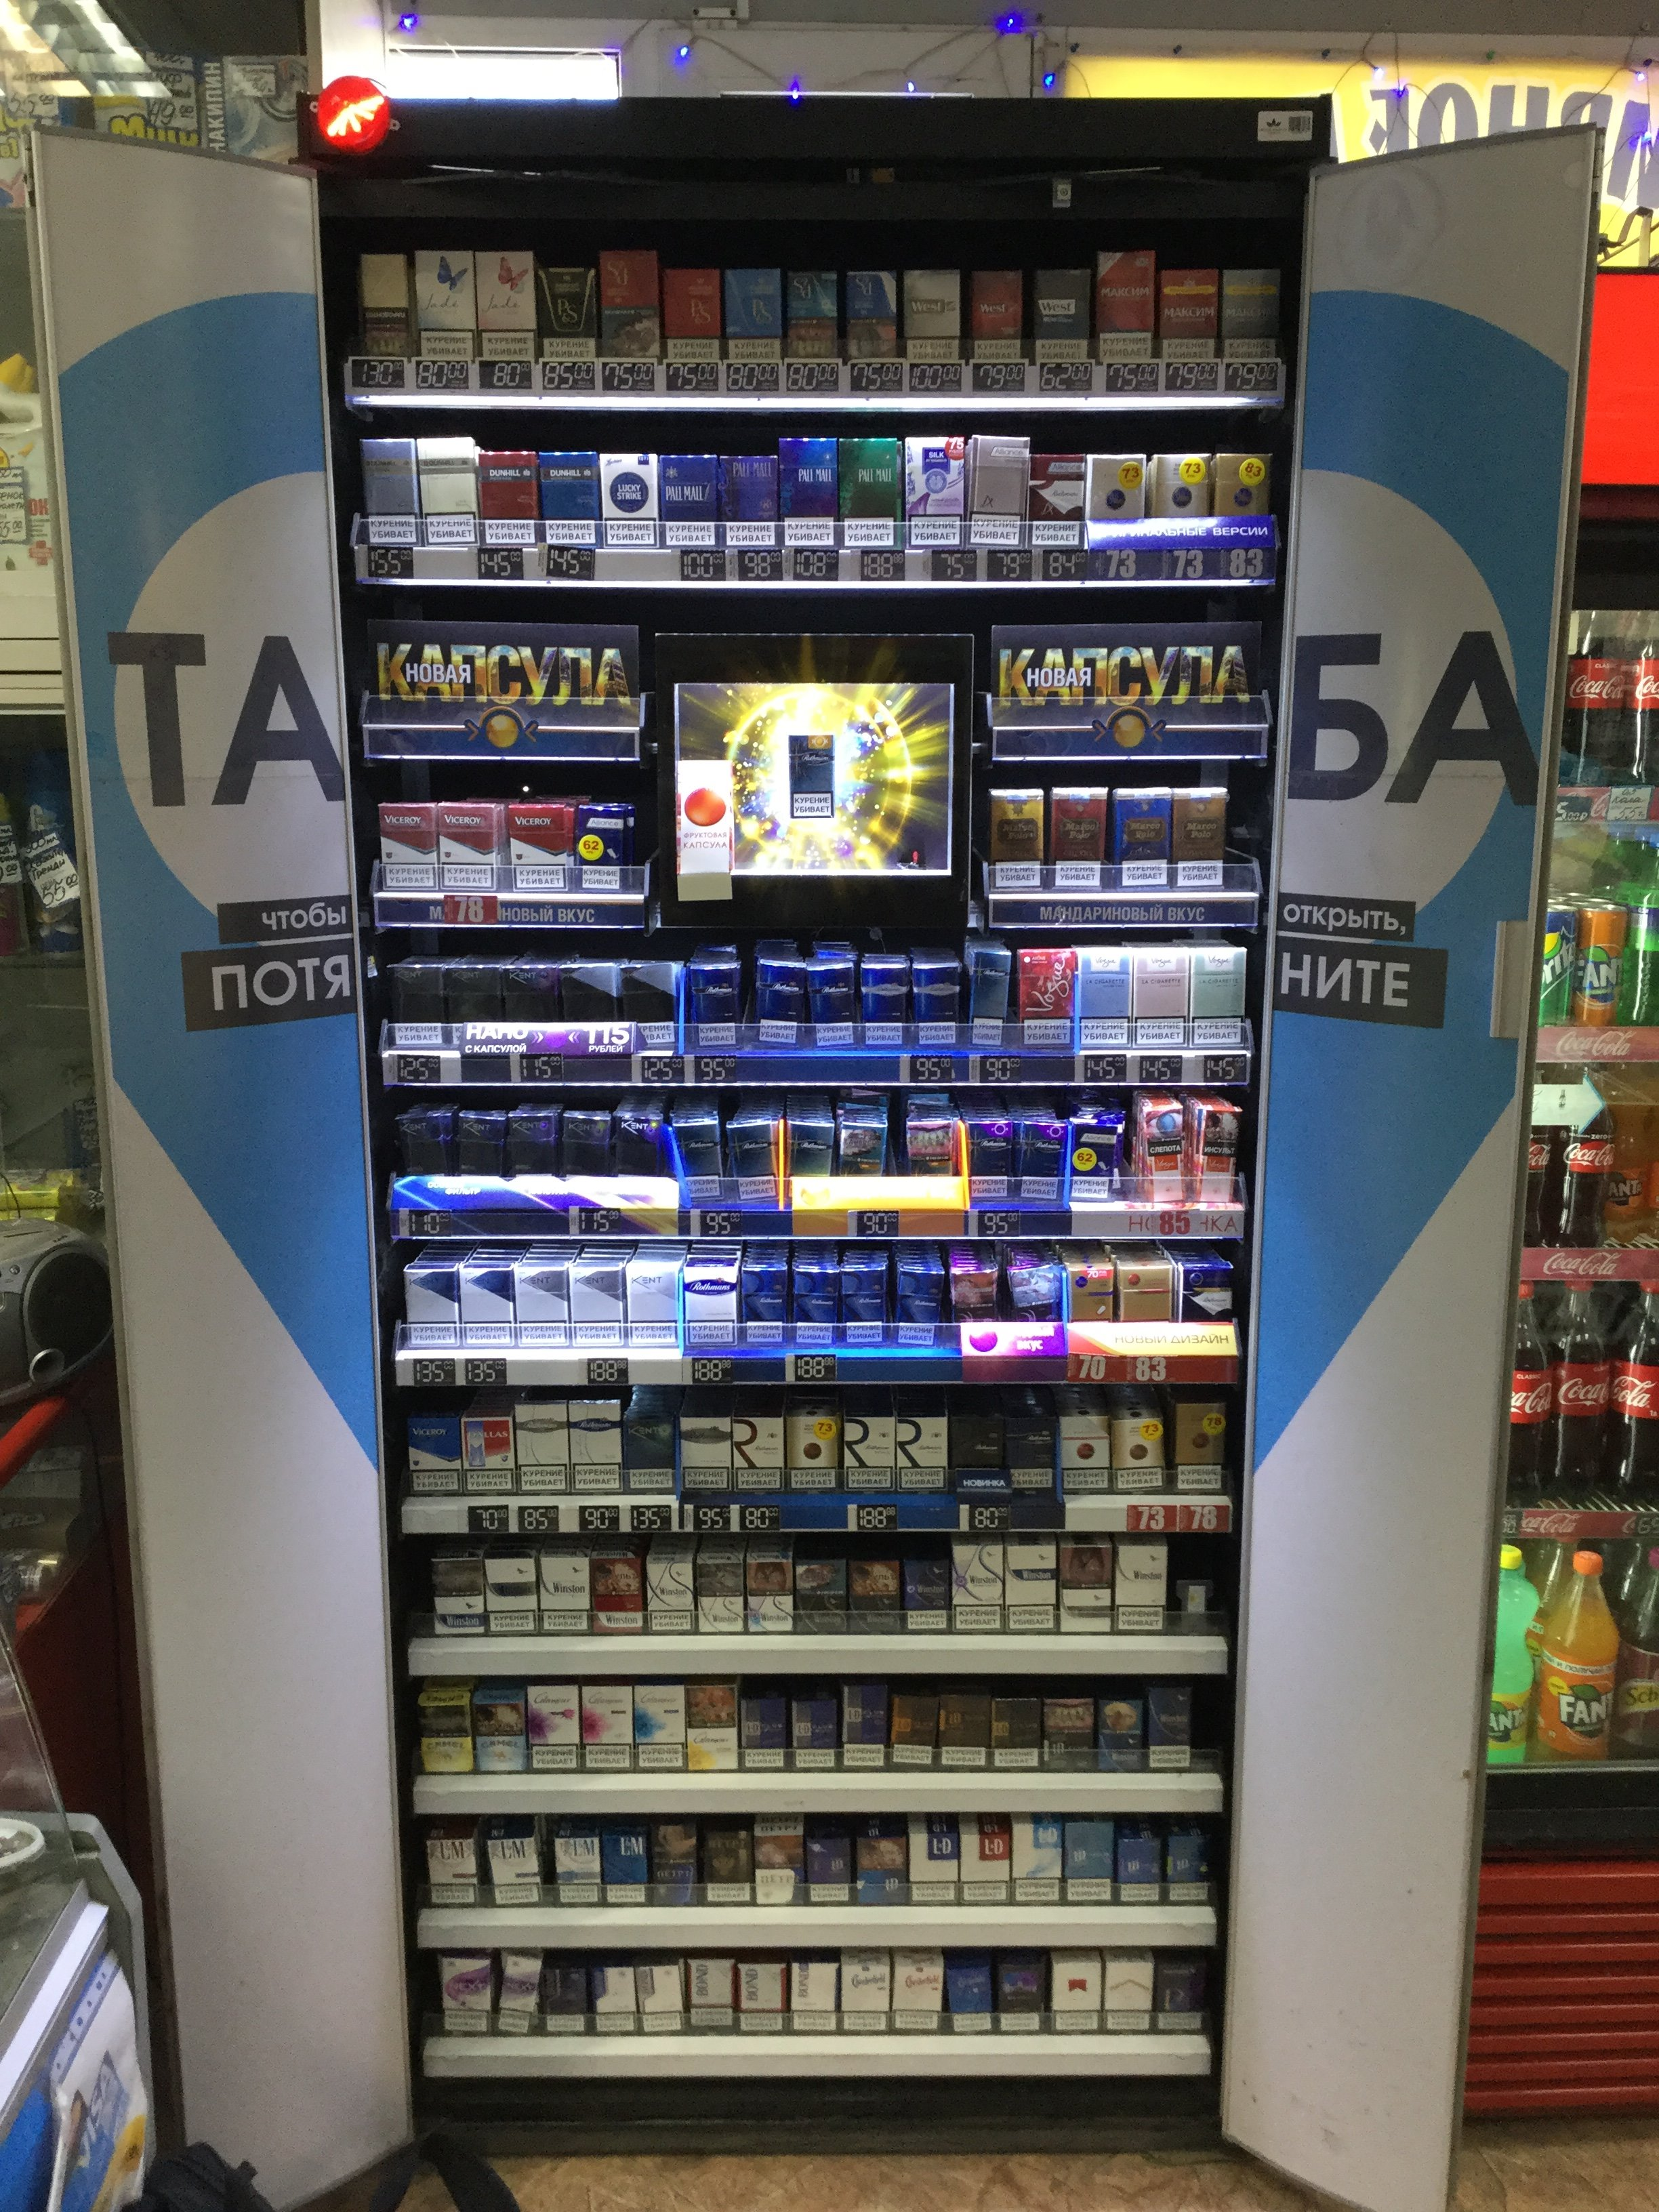pack: (410, 242, 479, 362), (471, 247, 535, 374), (836, 435, 906, 552), (1094, 246, 1159, 369), (591, 249, 659, 366), (535, 263, 601, 376), (967, 435, 1030, 554), (906, 434, 969, 550), (533, 446, 599, 556), (472, 442, 537, 549), (359, 437, 420, 547), (777, 437, 838, 547), (960, 266, 1028, 364), (1220, 265, 1279, 376), (1190, 944, 1251, 1052), (1030, 265, 1096, 364), (593, 451, 659, 550), (721, 265, 786, 366), (903, 265, 967, 366), (415, 434, 472, 547), (436, 803, 507, 894), (619, 958, 680, 1062), (1047, 786, 1110, 887), (1014, 948, 1077, 1049), (1168, 787, 1229, 890), (1211, 453, 1276, 549), (662, 268, 723, 369), (354, 254, 411, 361), (1131, 948, 1190, 1050), (1185, 1096, 1239, 1207), (1073, 946, 1129, 1052), (659, 453, 716, 556), (504, 956, 561, 1059), (1147, 455, 1206, 554), (714, 455, 775, 550), (840, 266, 899, 364), (1023, 453, 1082, 550), (467, 1686, 526, 1784), (383, 961, 450, 1049), (1134, 1099, 1188, 1205), (1108, 784, 1164, 887), (620, 1113, 676, 1216), (1107, 1545, 1171, 1634), (784, 265, 842, 364), (502, 803, 565, 894), (1089, 449, 1145, 550), (444, 958, 505, 1050), (378, 798, 436, 895), (561, 961, 620, 1055), (1161, 270, 1220, 362), (1053, 1543, 1112, 1635), (683, 963, 744, 1052), (697, 1817, 753, 1912), (575, 803, 631, 897), (570, 1399, 626, 1493), (687, 1684, 742, 1778), (1046, 1947, 1105, 2034), (457, 1259, 512, 1352), (570, 1258, 626, 1350), (525, 1688, 580, 1780), (751, 1820, 807, 1912), (512, 1404, 570, 1493), (455, 1113, 507, 1211), (566, 1109, 619, 1207), (988, 786, 1042, 880), (753, 961, 807, 1055), (721, 1122, 777, 1212), (514, 1111, 565, 1211), (1173, 1395, 1223, 1494), (861, 956, 910, 1059), (1115, 1266, 1171, 1355), (460, 1414, 519, 1498), (1108, 1407, 1164, 1496), (397, 1109, 448, 1207), (627, 1261, 680, 1355), (416, 1689, 474, 1775), (945, 1541, 1000, 1629), (643, 1818, 699, 1905), (1143, 1684, 1194, 1780), (911, 968, 964, 1061), (1009, 1820, 1061, 1912), (887, 1264, 945, 1348), (403, 1261, 457, 1350), (833, 1264, 887, 1353), (948, 1268, 1002, 1357), (631, 1689, 685, 1778), (946, 1413, 1007, 1491), (514, 1263, 570, 1348), (904, 1116, 955, 1211), (1063, 1818, 1114, 1912), (634, 1552, 694, 1632), (1180, 1261, 1232, 1352), (483, 1831, 540, 1912), (1100, 1956, 1157, 2038), (683, 1263, 737, 1350), (1000, 1263, 1056, 1346), (582, 1554, 638, 1637), (836, 1947, 889, 2036), (680, 1409, 734, 1494), (892, 1414, 946, 1500), (535, 1552, 589, 1637), (1000, 1541, 1054, 1627), (1040, 1695, 1094, 1780), (836, 1414, 894, 1494), (676, 1116, 723, 1214), (967, 948, 1012, 1049), (582, 1689, 633, 1780), (1065, 1263, 1117, 1350), (430, 1555, 488, 1634), (992, 1956, 1049, 2034), (788, 1261, 838, 1350), (1060, 1413, 1114, 1494), (835, 1120, 885, 1207), (624, 1406, 674, 1493), (1007, 1407, 1058, 1494), (939, 1691, 990, 1778), (1164, 1825, 1215, 1912), (892, 1949, 943, 2036), (498, 1949, 545, 2041), (809, 965, 857, 1054), (406, 1414, 460, 1494), (908, 1827, 962, 1907), (788, 732, 838, 817), (634, 1956, 685, 2041), (964, 1822, 1012, 1909), (856, 1829, 910, 1907), (788, 1413, 838, 1496), (598, 1829, 648, 1912), (789, 1559, 847, 1632), (990, 1693, 1042, 1773), (439, 1952, 491, 2033), (969, 1116, 1016, 1205), (481, 1559, 537, 1634), (741, 1693, 789, 1778), (845, 1561, 901, 1634), (427, 1834, 481, 1909), (892, 1691, 939, 1777), (735, 1264, 788, 1341), (681, 1956, 737, 2027), (1070, 1123, 1119, 1204), (791, 1693, 840, 1773), (692, 1557, 742, 1634), (782, 1118, 826, 1207), (1019, 1118, 1065, 1204), (1152, 1963, 1206, 2034), (737, 1418, 784, 1500), (552, 1831, 601, 1909), (845, 1688, 890, 1771), (807, 1827, 854, 1907), (789, 1958, 836, 2038), (540, 1965, 591, 2038), (744, 1561, 793, 1635), (899, 1559, 948, 1634), (1098, 1695, 1141, 1777), (941, 1961, 992, 2031), (739, 1963, 784, 2036), (593, 1963, 634, 2040), (1117, 1834, 1159, 1904)
